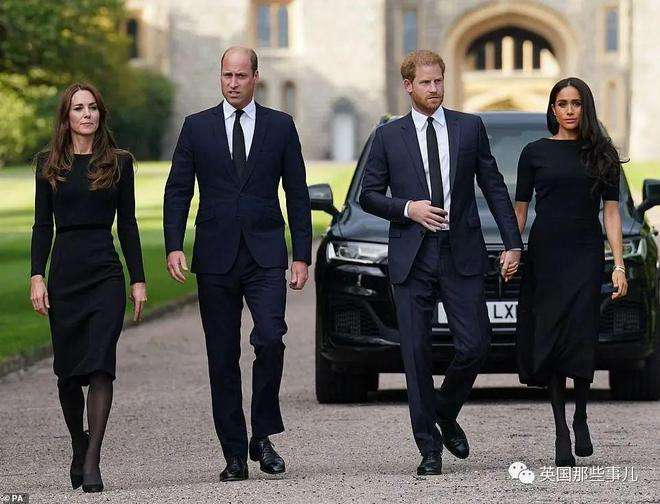no-phone: (408, 200, 450, 236), (25, 274, 52, 317), (162, 248, 189, 287), (287, 257, 308, 293), (608, 268, 630, 301)
